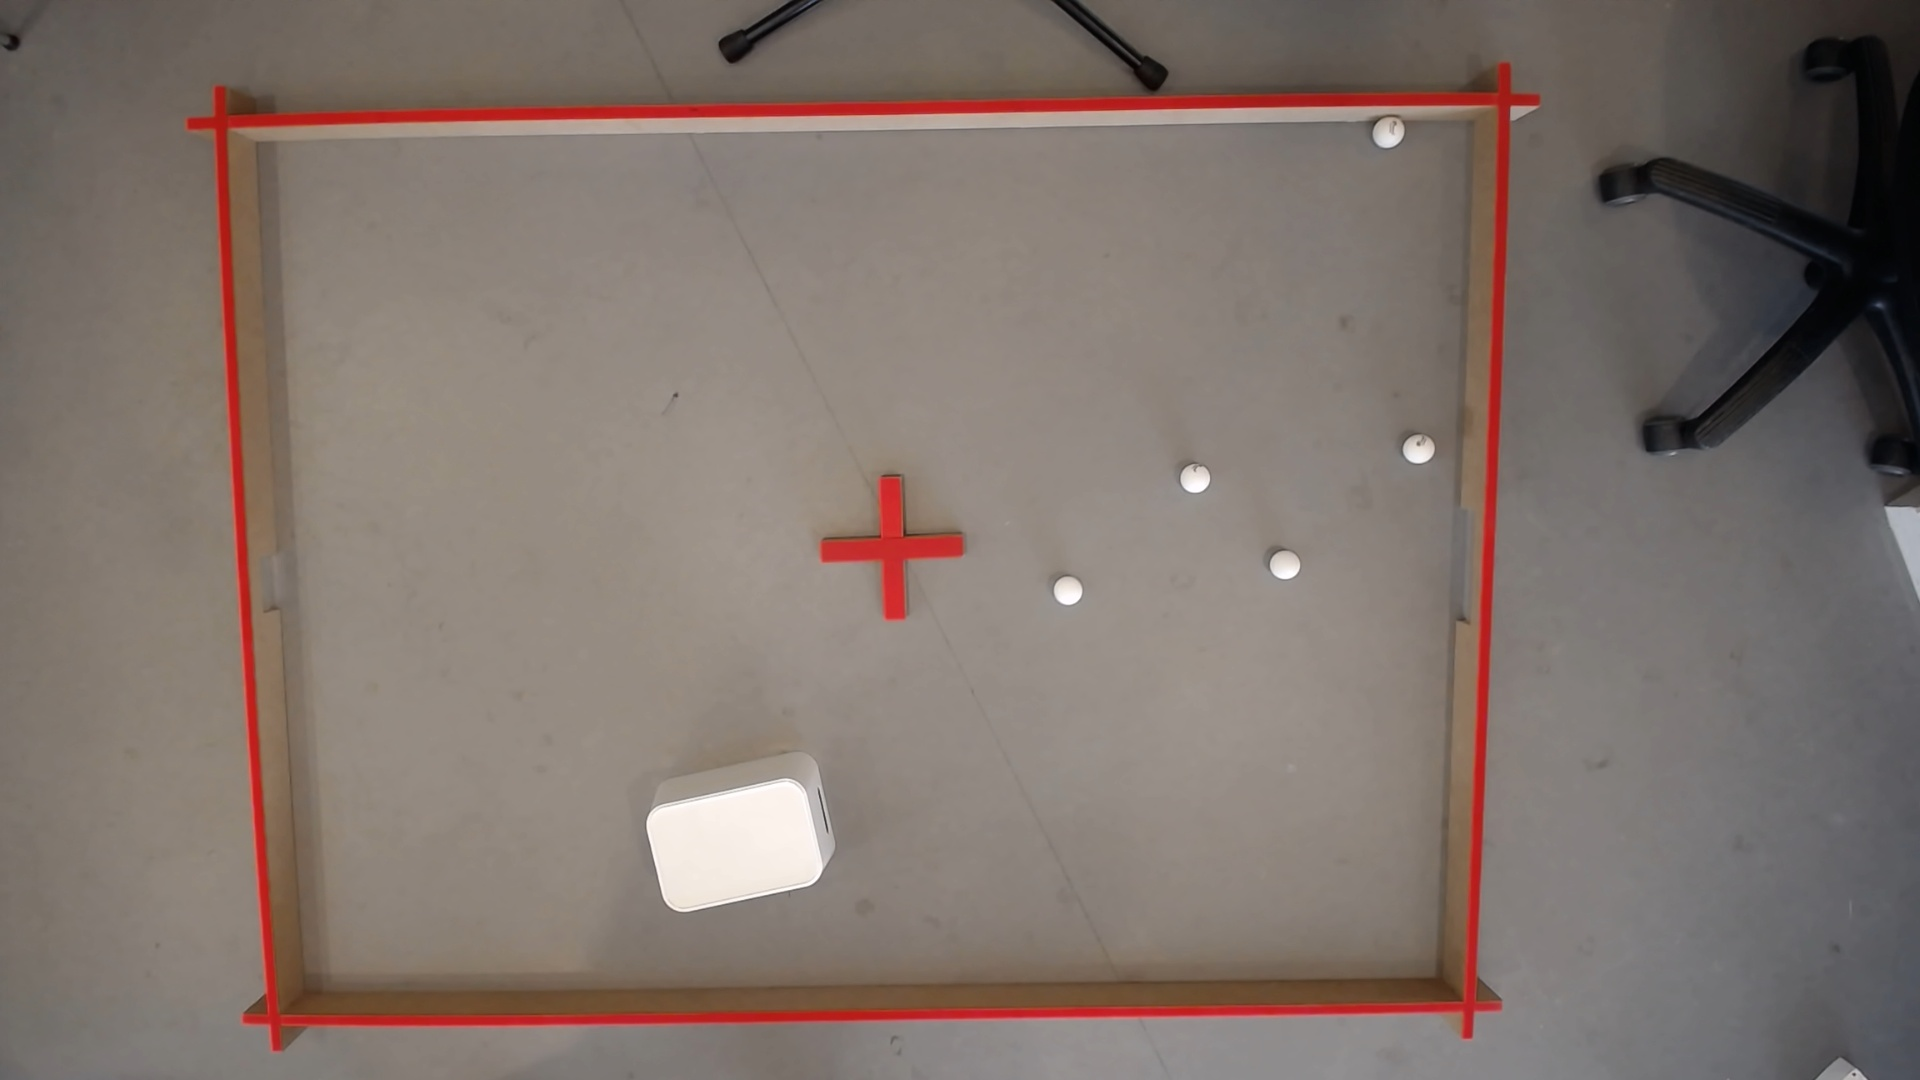balls: (1176, 462, 1213, 496), (1400, 438, 1435, 465), (1054, 579, 1081, 605), (1270, 555, 1300, 579)
car: (1373, 121, 1403, 149)
